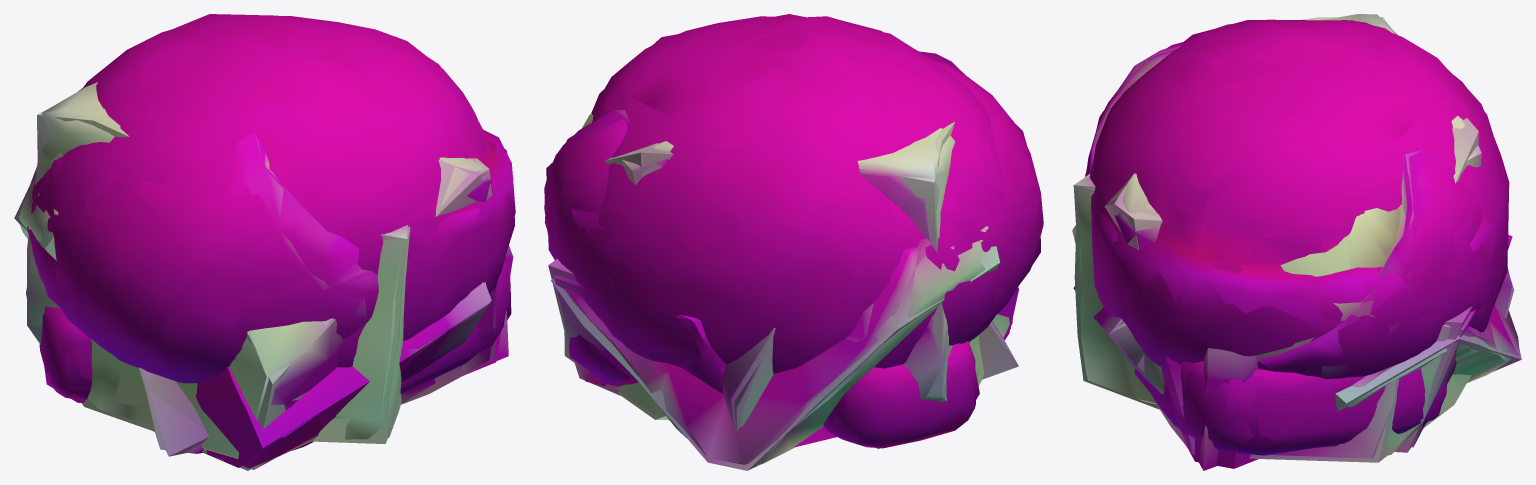
The model's file is rockkit.glb.
3 renders of one model, left to right at view 1: azimuth 30°, elevation 25°; view 2: azimuth 150°, elevation 25°; view 3: azimuth 270°, elevation 25°, orthographic.
Visible parts, largest first — view 1: boulder_hi, corestone_hi, boulder_lo, talus1_hi, corestone_lo, talus2_hi, talus1_lo, slab_lo, slab_hi, tor_hi, talus2_lo, chip_lo (+2 smaller); view 2: boulder_hi, boulder_lo, talus2_hi, corestone_hi, talus1_hi, tor_hi, corestone_lo, talus2_lo, chip_hi, talus1_lo, slab_hi, tor_lo (+2 smaller); view 3: boulder_hi, boulder_lo, corestone_hi, tor_hi, talus2_hi, corestone_lo, talus1_hi, talus1_lo, tor_lo, talus2_lo, slab_hi, chip_hi (+2 smaller).
Part boxes in pixels (x1,y1,x2,y2): boulder_hi: (30, 15, 515, 364); corestone_hi: (45, 138, 378, 383); boulder_lo: (27, 14, 514, 367); talus1_hi: (26, 82, 494, 469); corestone_lo: (47, 127, 377, 383); talus2_hi: (18, 167, 410, 439); talus1_lo: (27, 109, 496, 470); slab_lo: (196, 282, 490, 467); slab_hi: (197, 282, 491, 468); tor_hi: (39, 262, 510, 420); talus2_lo: (14, 172, 409, 443); chip_lo: (143, 310, 508, 456); boulder_hi: (544, 16, 1003, 371); boulder_lo: (546, 14, 1005, 373); talus2_hi: (564, 226, 988, 465); corestone_hi: (544, 61, 1043, 343); talus1_hi: (609, 128, 1009, 420); tor_hi: (575, 334, 975, 448); corestone_lo: (544, 51, 1040, 343); talus2_lo: (551, 238, 999, 470); chip_hi: (722, 321, 1015, 427); talus1_lo: (564, 122, 1010, 419); slab_hi: (554, 275, 1012, 393); tor_lo: (569, 337, 979, 448); boulder_hi: (1091, 19, 1509, 377); boulder_lo: (1089, 20, 1507, 369); corestone_hi: (1085, 42, 1496, 376); tor_hi: (1134, 361, 1447, 455); talus2_hi: (1073, 176, 1519, 407); corestone_lo: (1085, 44, 1494, 379); talus1_hi: (1075, 14, 1481, 458); talus1_lo: (1072, 17, 1478, 462); tor_lo: (1137, 361, 1441, 448); talus2_lo: (1073, 174, 1521, 411); slab_hi: (1097, 235, 1511, 447); chip_hi: (1189, 268, 1512, 468).
Size of the model in its own units: 1.99 by 1.5 by 1.81.
